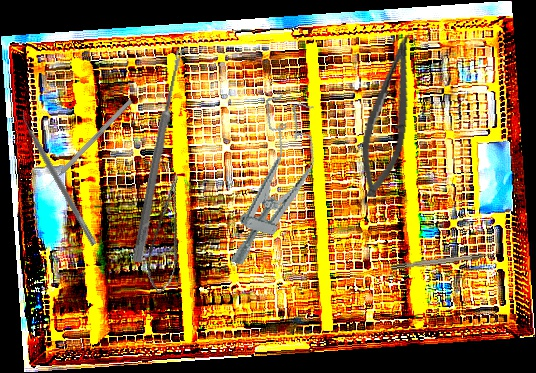Hook Surgical: (43, 98, 134, 191), (390, 250, 502, 271)
Micro Scissor: (354, 28, 421, 203), (138, 172, 201, 297)
Spatula Surgical: (16, 108, 103, 247)
Speculum: (217, 90, 331, 277)
Surgical Spoon: (132, 47, 185, 264)
